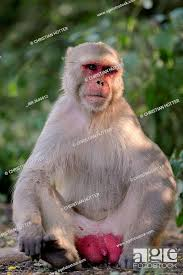monkey: (40, 31, 158, 267)
